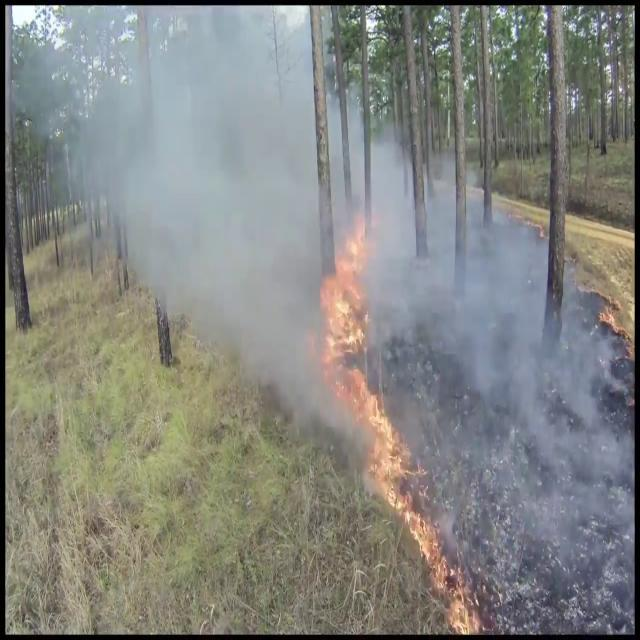Fire: (364, 394, 482, 640), (318, 211, 377, 417)
Smoke: (386, 121, 632, 533), (40, 0, 344, 328)
